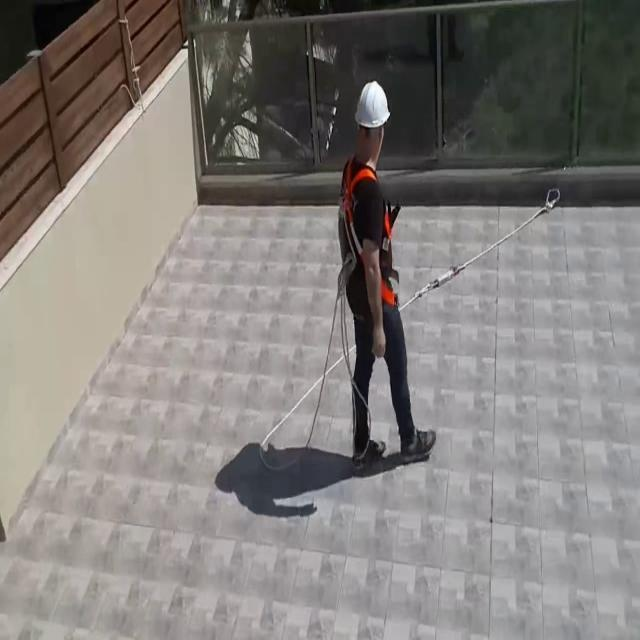Arnes_seguridad: (333, 165, 406, 311)
